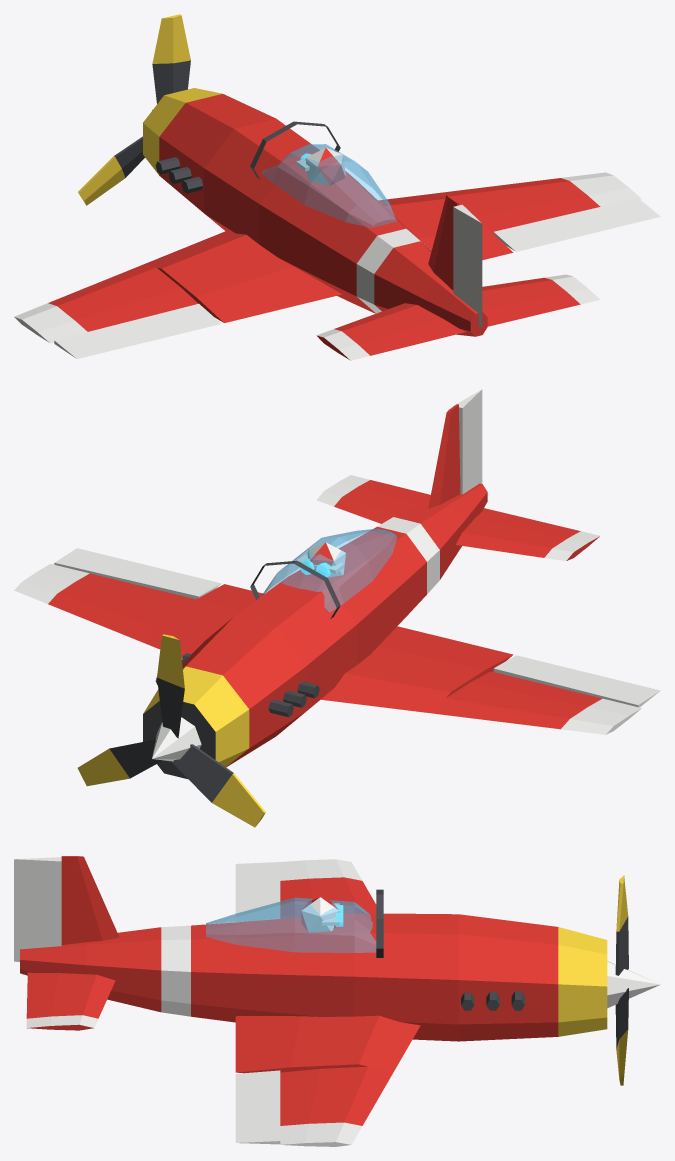
Rendered from arcade_avci.glb.
3 views of the same model, one above another, from view 1: azimuth 30°, elevation 25°; view 2: azimuth 150°, elevation 25°; view 3: azimuth 270°, elevation 25° (orthographic). The views are drawn at different scales.
Parts seen in each view (by area): view 1: Body, Canopy, Propeller, Aileron_L, Aileron_R, Rudder, Pilot_Head; view 2: Body, Propeller, Canopy, Aileron_L, Aileron_R, Rudder, Pilot_Head; view 3: Body, Canopy, Rudder, Aileron_R, Propeller, Aileron_L, Pilot_Head.
Boxes of the visible parts, <box> form: Body: <box>14,88,641,360</box>; Canopy: <box>261,144,396,227</box>; Propeller: <box>78,14,190,205</box>; Aileron_L: <box>54,303,221,358</box>; Aileron_R: <box>493,198,660,251</box>; Rudder: <box>453,204,482,327</box>; Pilot_Head: <box>296,147,345,185</box>; Body: <box>14,404,641,778</box>; Propeller: <box>77,634,265,827</box>; Canopy: <box>261,528,397,612</box>; Aileron_L: <box>493,655,660,707</box>; Aileron_R: <box>54,548,221,599</box>; Rudder: <box>453,389,482,494</box>; Pilot_Head: <box>297,542,345,577</box>; Body: <box>20,856,607,1146</box>; Canopy: <box>206,897,376,952</box>; Rudder: <box>14,857,61,961</box>; Aileron_R: <box>235,1070,280,1144</box>; Propeller: <box>607,875,660,1085</box>; Aileron_L: <box>235,862,280,922</box>; Pilot_Head: <box>301,897,343,932</box>.
Bounding box in the file's own units: 4.5 × 1.4 × 4.35.
